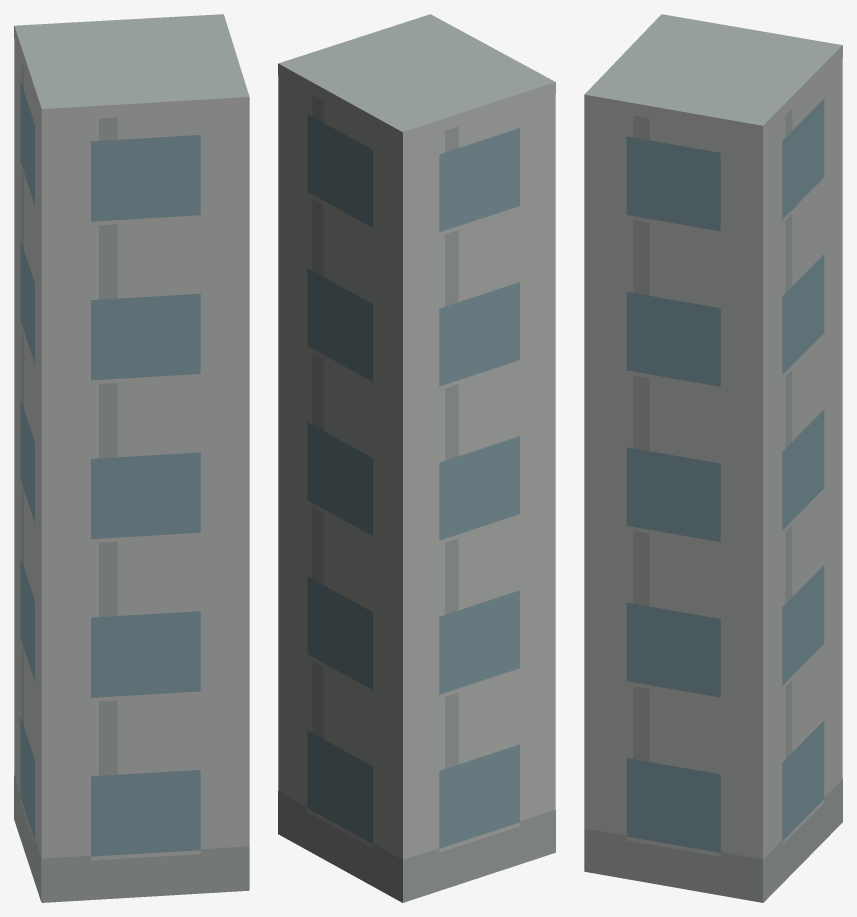
Rendered from survey-upis-32497671.glb.
3 renders of one model, left to right at view 1: azimuth 30°, elevation 25°; view 2: azimuth 150°, elevation 25°; view 3: azimuth 270°, elevation 25°, orthographic. The views are drawn at different scales.
Visible parts, largest first — view 1: survey-upis-32497671.tmp; view 2: survey-upis-32497671.tmp; view 3: survey-upis-32497671.tmp.
Boxes of the visible parts, left/top/right/bottom form: survey-upis-32497671.tmp: left=14, top=14, right=249, bottom=902; survey-upis-32497671.tmp: left=278, top=14, right=555, bottom=902; survey-upis-32497671.tmp: left=584, top=14, right=842, bottom=902.
Size of the model in its own units: 4.71 by 15.25 by 4.6.
